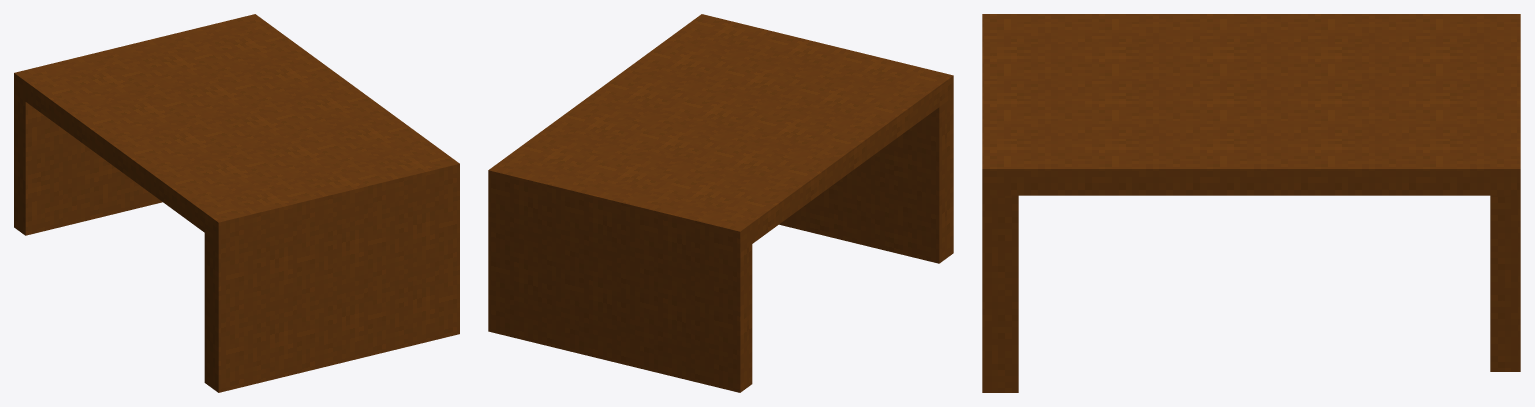
File: desk.obj
3 views of the same model, side by side, from view 1: azimuth 30°, elevation 25°; view 2: azimuth 150°, elevation 25°; view 3: azimuth 270°, elevation 25° (orthographic). The views are drawn at different scales.
Parts seen in each view (by area): view 1: Cube; view 2: Cube; view 3: Cube.
Boxes of the visible parts, left/top/right/bottom form: Cube: left=14, top=14, right=459, bottom=392; Cube: left=488, top=14, right=953, bottom=392; Cube: left=982, top=14, right=1520, bottom=392.
Size of the model in its own units: 2.02 by 1.36 by 2.97.
